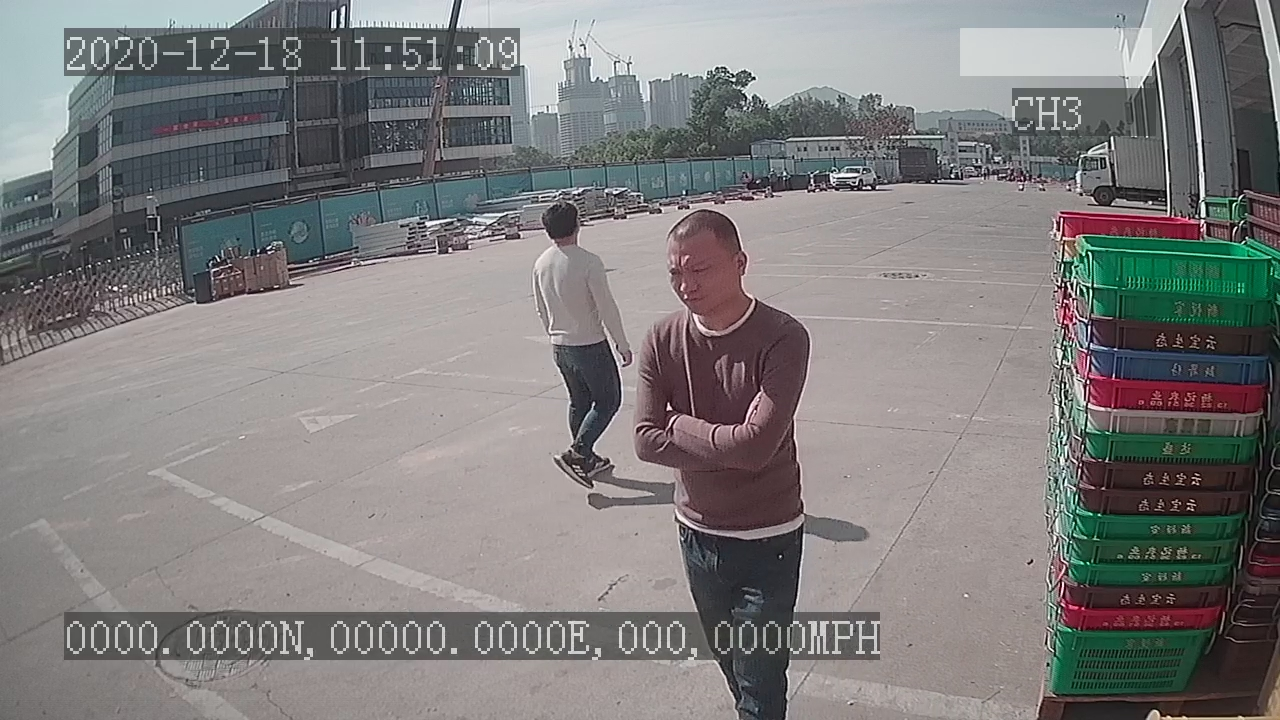person: (524, 197, 634, 495)
